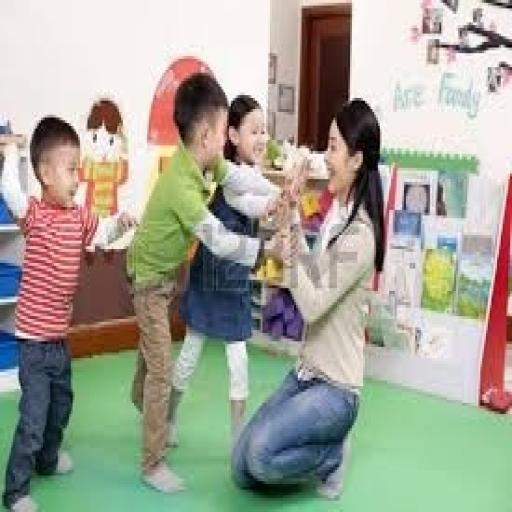clapping: (229, 95, 387, 501), (2, 112, 138, 509)
